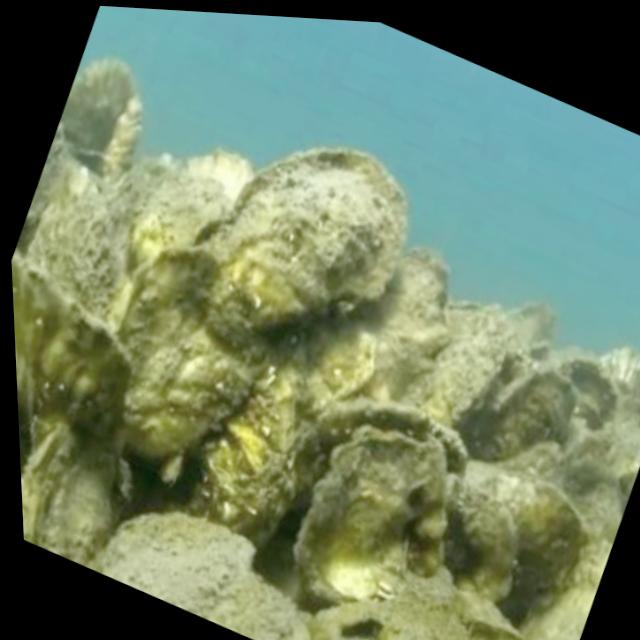Oyster-Indeterminate: (111, 247, 270, 465), (13, 273, 131, 560), (216, 154, 407, 319), (81, 512, 318, 640), (292, 452, 450, 611), (282, 407, 470, 528), (187, 363, 294, 547), (484, 475, 591, 623), (353, 251, 450, 399), (25, 200, 125, 325), (403, 343, 536, 429), (271, 315, 378, 408), (117, 161, 205, 274), (464, 372, 578, 459), (59, 60, 139, 180), (446, 480, 521, 601), (527, 540, 612, 640), (187, 152, 253, 226), (558, 360, 621, 428), (377, 604, 469, 640), (454, 593, 522, 640), (601, 350, 640, 423)
